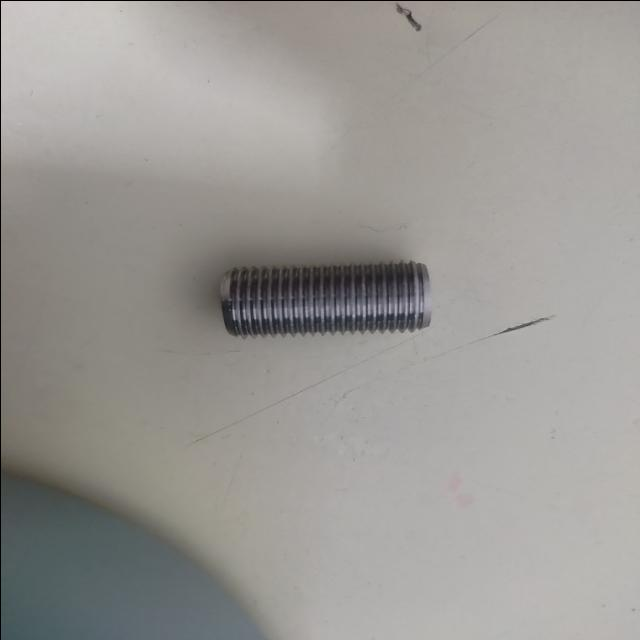Normal: (219, 258, 432, 340)
